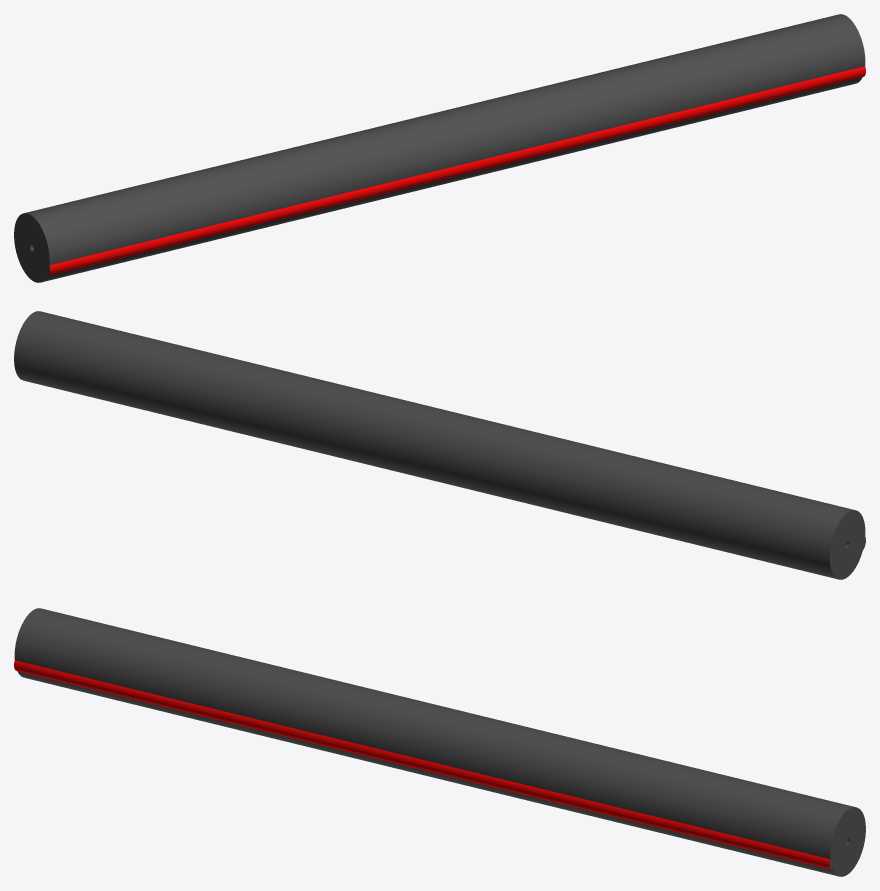
3 views of the same model, one above another, from view 1: azimuth 30°, elevation 25°; view 2: azimuth 150°, elevation 25°; view 3: azimuth 330°, elevation 25° (orthographic).
Visible parts, largest first — view 1: Part 15; view 2: Part 15; view 3: Part 15.
Part boxes in pixels (x1,y1,x2,y2): Part 15: (14, 14, 865, 282); Part 15: (14, 311, 865, 579); Part 15: (14, 608, 865, 876).
Bounding box in the file's own units: 0.67 × 0.0508 × 0.0516.
